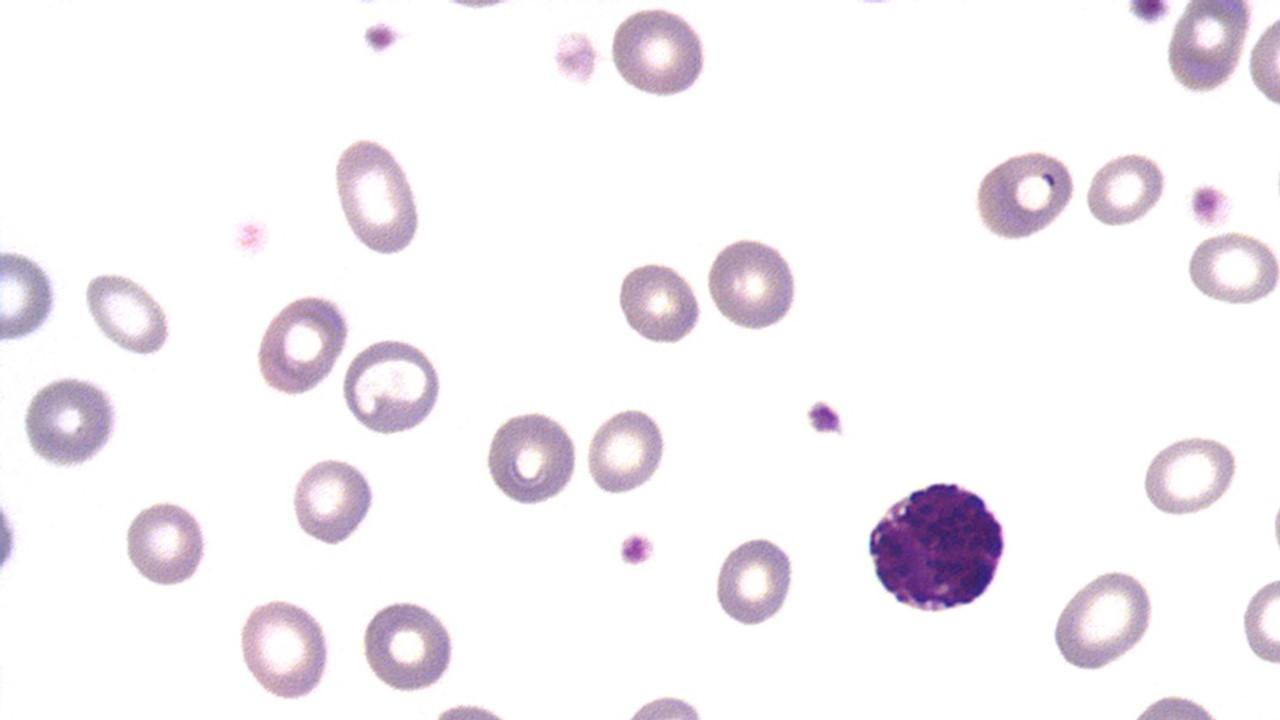Platelets: (546, 28, 608, 94), (1183, 180, 1237, 229), (800, 396, 850, 439), (1123, 2, 1175, 28), (1266, 483, 1280, 578)
RBC: (1048, 566, 1158, 674), (332, 132, 425, 258), (253, 288, 353, 404), (18, 370, 124, 474), (236, 593, 335, 703), (340, 335, 444, 437), (973, 144, 1079, 244), (480, 407, 581, 510), (357, 595, 462, 694), (606, 4, 712, 101), (704, 232, 800, 335), (1137, 430, 1241, 520), (80, 268, 177, 358), (1163, 0, 1251, 99), (288, 452, 378, 548), (710, 531, 796, 630), (122, 494, 210, 590), (614, 256, 704, 349), (584, 403, 668, 498), (1183, 227, 1280, 309), (1082, 146, 1168, 231), (1, 239, 62, 347), (1238, 568, 1280, 670), (1245, 7, 1279, 114), (620, 690, 712, 720)
WBC: (861, 470, 1014, 620)
